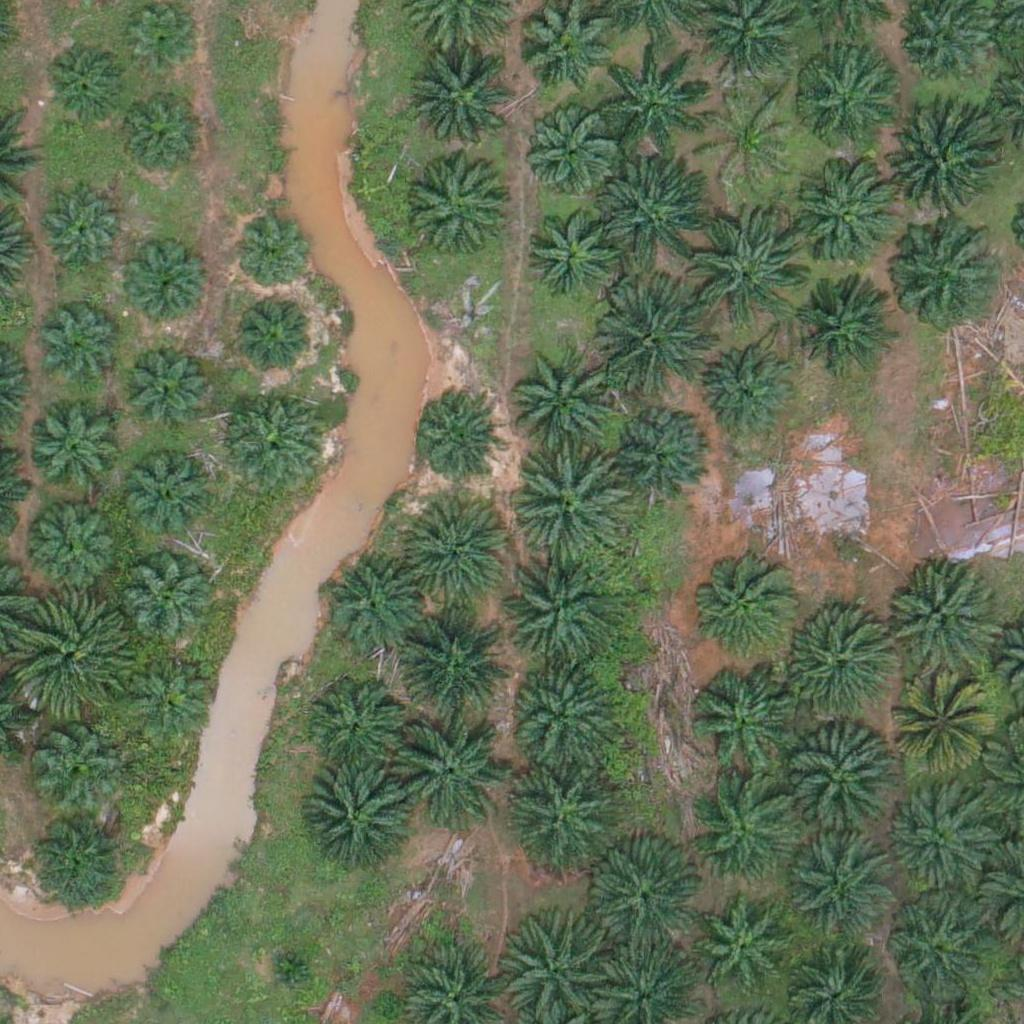Kelapa_Sawit: (510, 654, 623, 768), (598, 282, 711, 396), (501, 559, 614, 673), (399, 495, 512, 609), (785, 727, 898, 840), (687, 669, 800, 782), (298, 766, 411, 879), (885, 107, 998, 220), (599, 156, 712, 269), (15, 596, 128, 709), (690, 774, 802, 888), (793, 157, 905, 271), (688, 546, 800, 660), (398, 603, 510, 717), (408, 46, 520, 160), (591, 849, 703, 962), (502, 757, 614, 870), (502, 905, 614, 1018), (390, 714, 502, 827), (884, 565, 996, 678), (774, 609, 886, 722), (887, 223, 999, 336), (691, 212, 803, 325), (596, 43, 708, 156), (512, 336, 624, 449), (516, 450, 628, 563), (883, 786, 983, 887), (885, 898, 985, 999), (791, 843, 891, 944), (692, 898, 792, 999), (305, 676, 405, 777), (701, 85, 801, 186), (608, 403, 708, 504), (518, 103, 618, 204), (522, 199, 622, 300), (411, 155, 511, 256), (224, 388, 324, 489), (116, 449, 216, 550), (324, 556, 424, 657), (889, 680, 989, 780), (26, 811, 126, 911), (794, 276, 894, 376), (791, 48, 891, 148), (697, 349, 797, 449), (26, 495, 126, 595), (30, 399, 130, 499), (30, 718, 118, 806), (113, 92, 201, 180), (127, 653, 215, 741), (36, 302, 124, 390), (412, 389, 499, 477), (42, 40, 129, 128), (35, 188, 122, 276), (124, 245, 211, 333), (231, 291, 318, 379), (125, 561, 212, 649), (120, 340, 207, 428), (125, 5, 200, 81), (234, 218, 309, 294), (263, 941, 313, 992)
